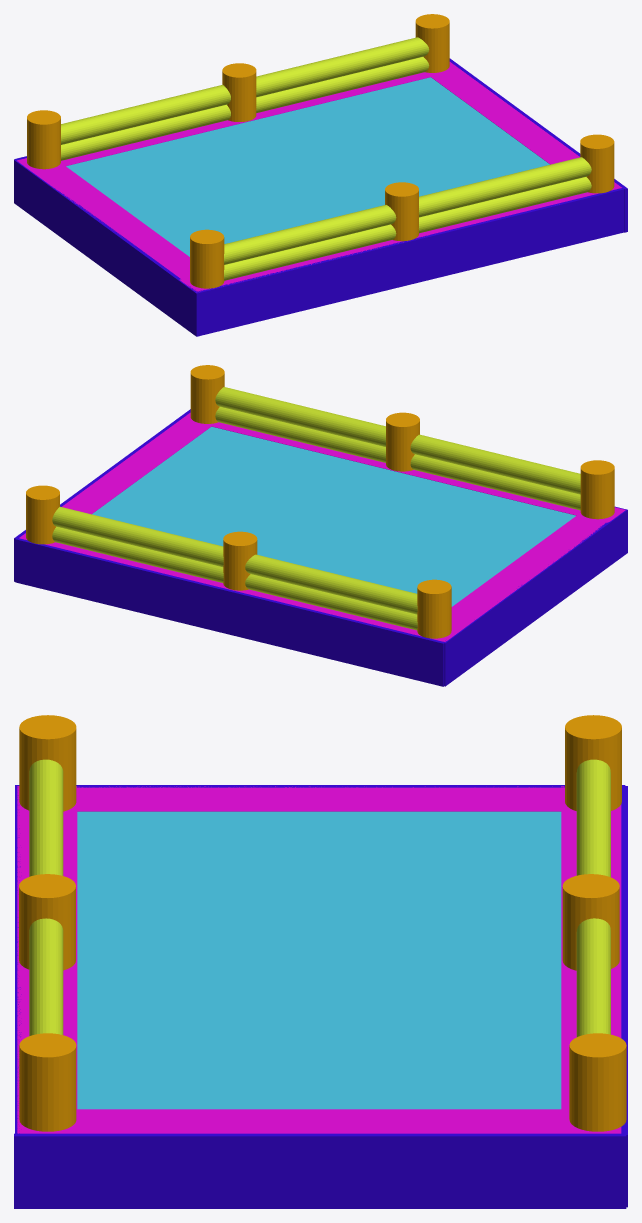
Rendered from Floor2.fbx.
3 renders of one model, top to bottom at view 1: azimuth 30°, elevation 25°; view 2: azimuth 150°, elevation 25°; view 3: azimuth 270°, elevation 25°, orthographic. The views are drawn at different scales.
Visible parts, largest first — view 1: Cube, Cube.004, Cube.005, Cylinder.007, Cylinder.008, Cylinder.006, Cylinder.009, Cube.009, Cube.001, Cube.007, Cylinder.010, Cylinder.004 (+6 smaller); view 2: Cube, Cube.003, Cube.005, Cylinder.008, Cylinder.007, Cylinder.009, Cylinder.006, Cube.009, Cube.001, Cube.002, Cube.007, Cylinder.010 (+6 smaller); view 3: Cube, Cube.006, Cube.001, Cube.009, Cylinder.008, Cylinder.007, Cylinder.002, Cylinder.001, Cube.002, Cube.007, Cylinder.010, Cylinder (+5 smaller).
Part boxes in pixels (x1,y1,x2,y2): Cube: (66, 77, 549, 256); Cube.004: (196, 188, 624, 335); Cube.005: (14, 160, 199, 336); Cylinder.007: (224, 157, 591, 264); Cylinder.008: (61, 37, 429, 144); Cylinder.006: (224, 177, 591, 280); Cylinder.009: (61, 57, 429, 160); Cube.009: (20, 161, 224, 283); Cube.001: (426, 62, 619, 193); Cube.007: (17, 64, 454, 165); Cylinder.010: (190, 229, 224, 288); Cylinder.004: (27, 110, 60, 169); Cube: (92, 426, 575, 606); Cube.003: (15, 538, 444, 686); Cube.005: (444, 509, 627, 686); Cylinder.008: (52, 506, 417, 614); Cylinder.007: (215, 387, 580, 494); Cylinder.009: (52, 526, 417, 630); Cylinder.006: (215, 407, 580, 510); Cube.009: (442, 513, 605, 639); Cube.001: (22, 412, 211, 536); Cube.002: (182, 413, 625, 522); Cube.007: (19, 536, 462, 641); Cylinder.010: (580, 460, 614, 519); Cube: (77, 811, 561, 1109); Cube.006: (14, 1133, 626, 1208); Cube.001: (28, 1109, 610, 1133); Cube.009: (65, 786, 568, 811); Cylinder.008: (576, 759, 610, 1036); Cylinder.007: (29, 759, 63, 1035); Cylinder.002: (19, 1033, 76, 1131); Cylinder.001: (569, 1033, 626, 1131); Cube.002: (17, 786, 77, 1133); Cube.007: (561, 786, 621, 1133); Cylinder.010: (19, 715, 76, 811); Cylinder: (562, 874, 619, 970).
Bounding box in the file's own units: 2114 × 411 × 1560.
